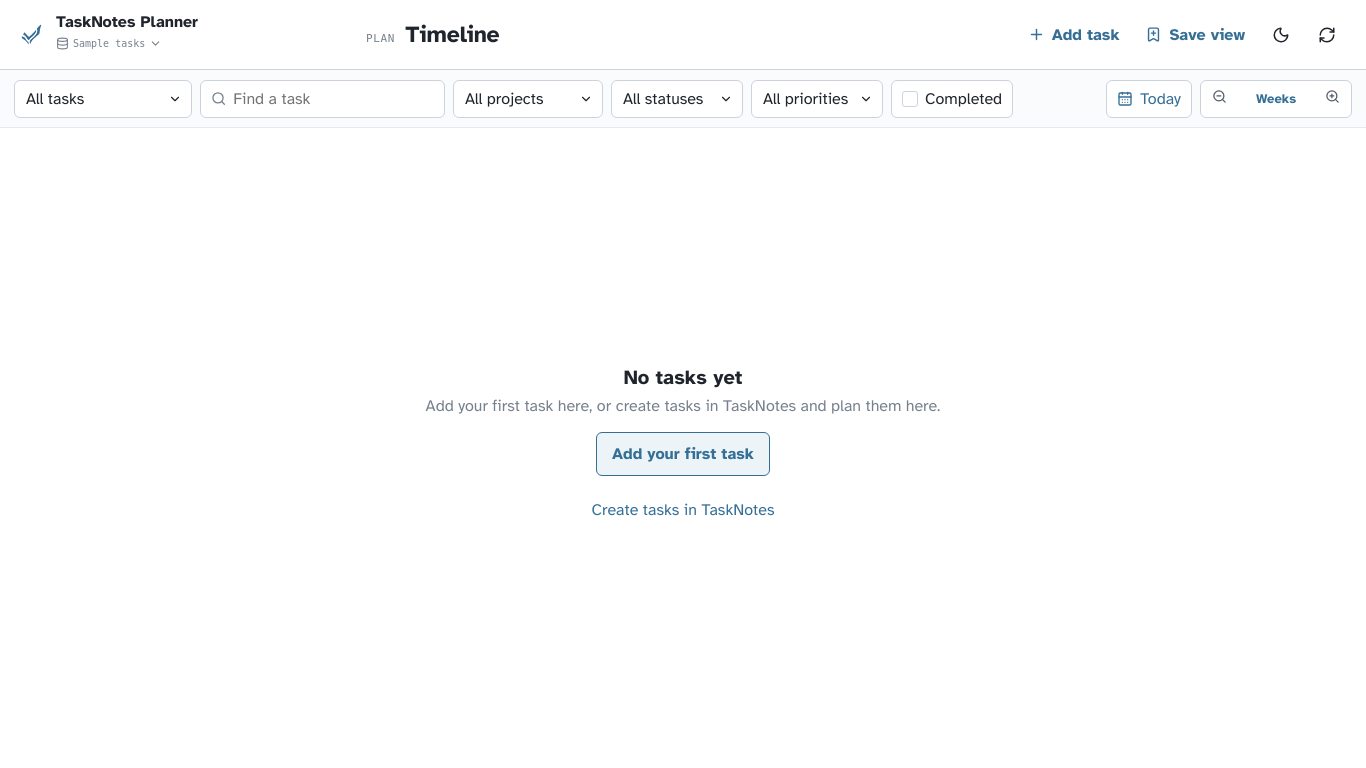
Test: Planner task creation › offers an empty-state action and a persistent add control, then shows the created task
Expected: the button "Sample tasks" is shown, [56,31,162,55]
Expected: the button "Add task" is enabled, [1017,14,1130,56]
Click the button "Add your first task". click: (683, 454)
box: [596,432,770,476]
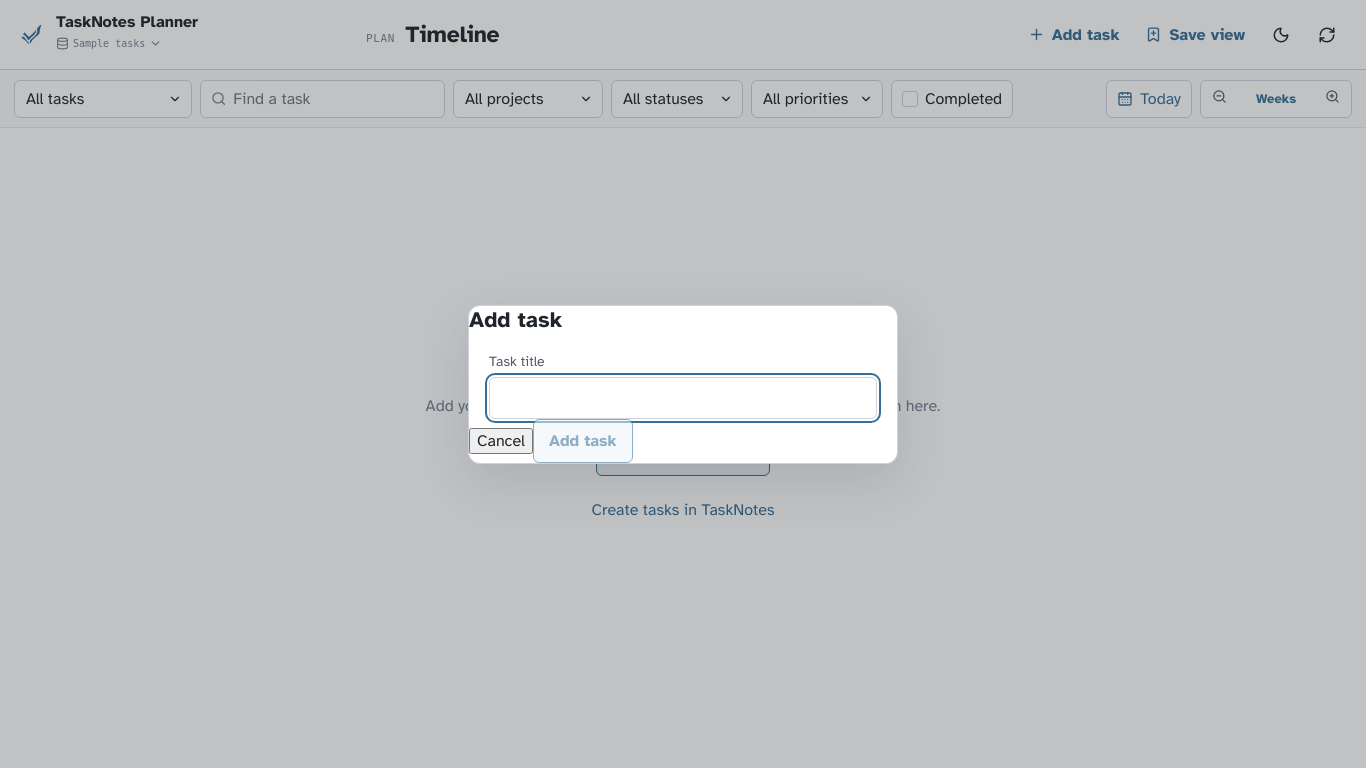
Expected: the button "Add task" is disabled, [533,418,633,462]
Type "First shared task" into the field labelled "Task title". click: (683, 398)
box: [489,376,877,418]
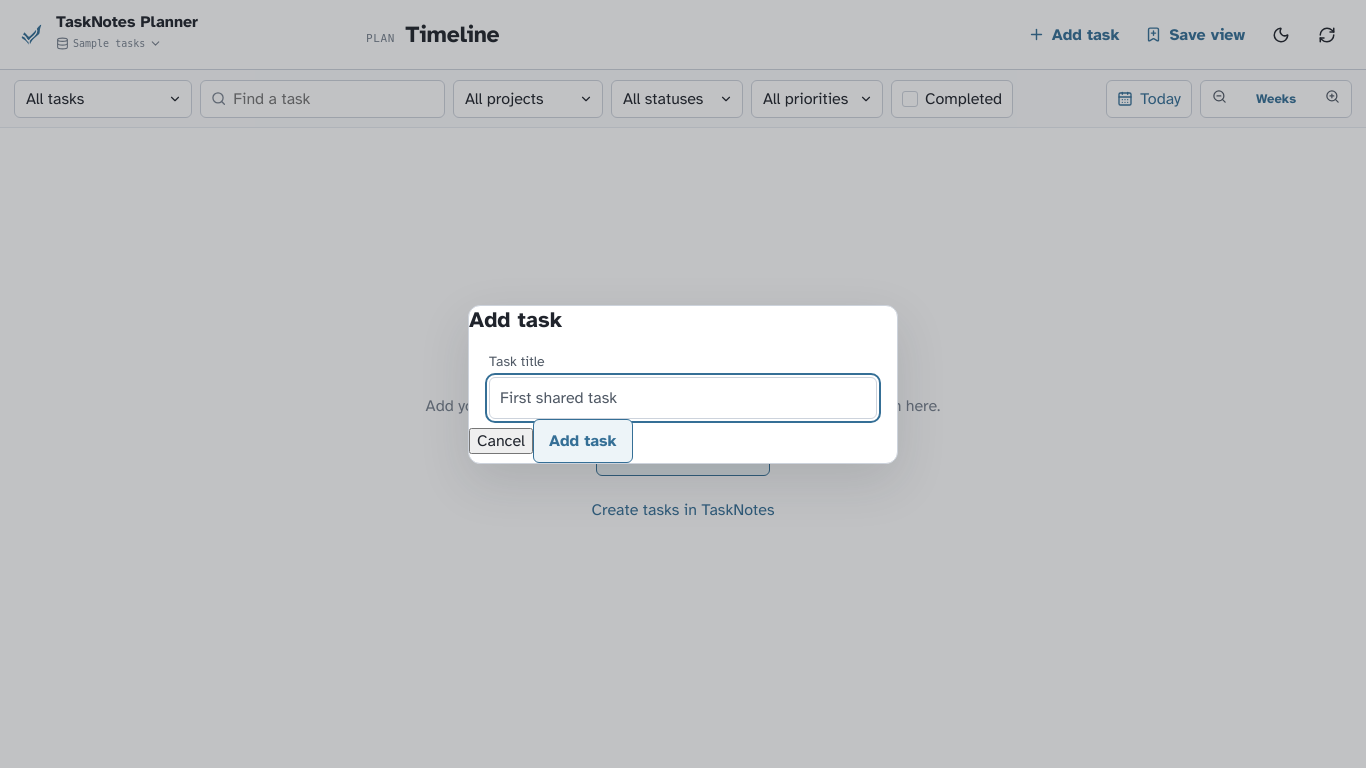
Submit the dialog "Add task", box [468,304,898,464]
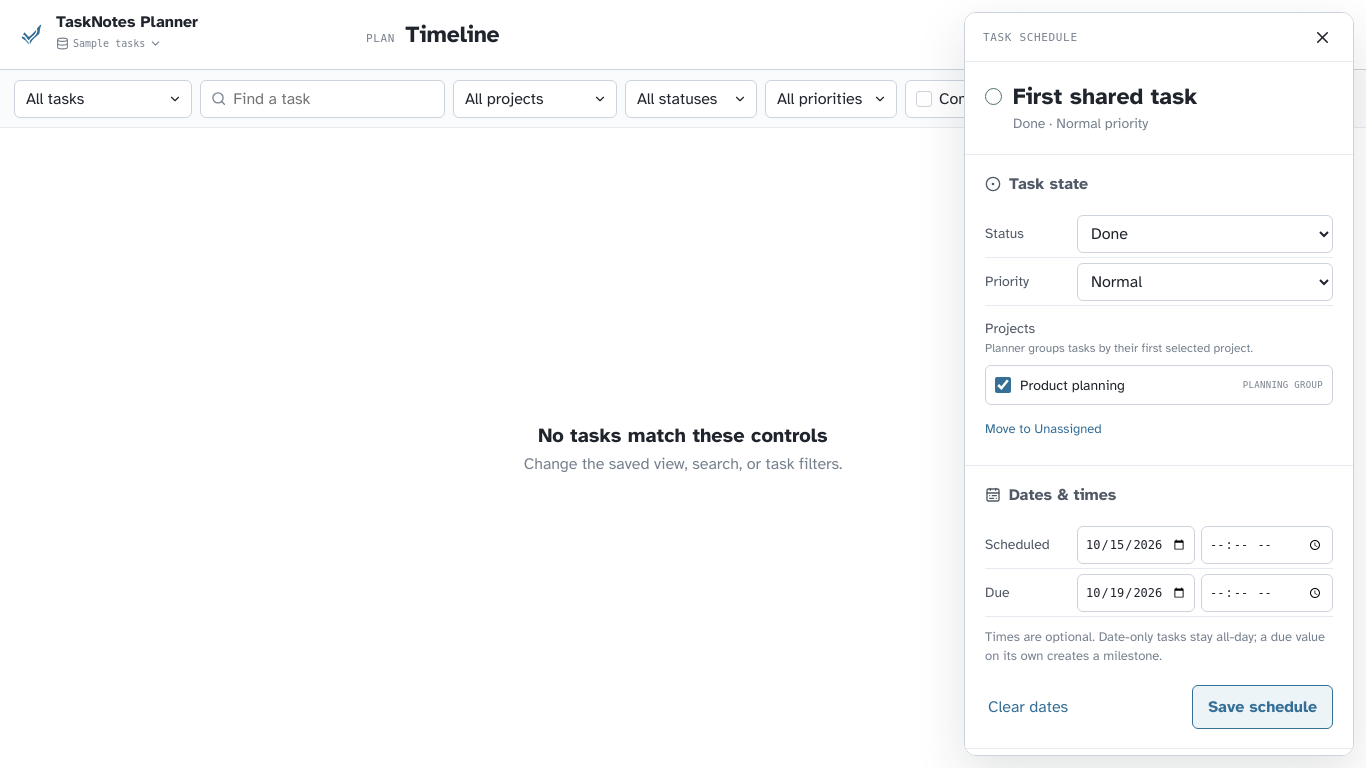
Expected: the button "Add task" is enabled, [1017,14,1130,56]
Expected: the heading "No tasks yet" is gone
Expected: the heading "First shared task" is shown, [1013,84,1197,110]
